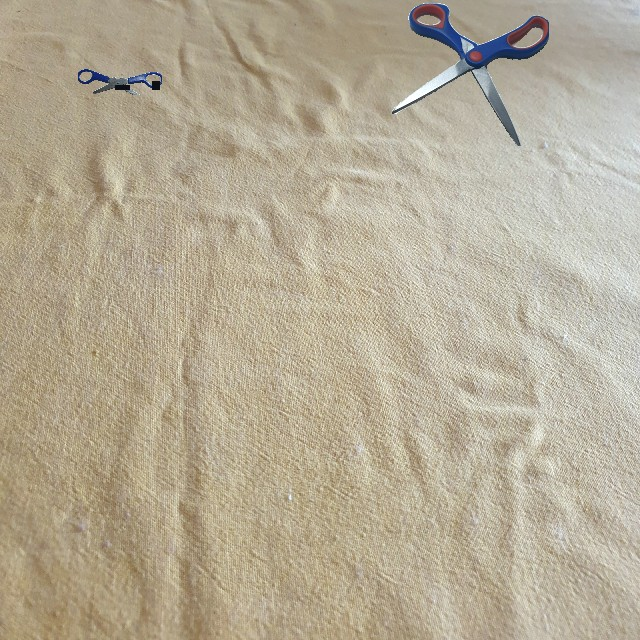scissors: (392, 3, 549, 146), (78, 69, 162, 95)
